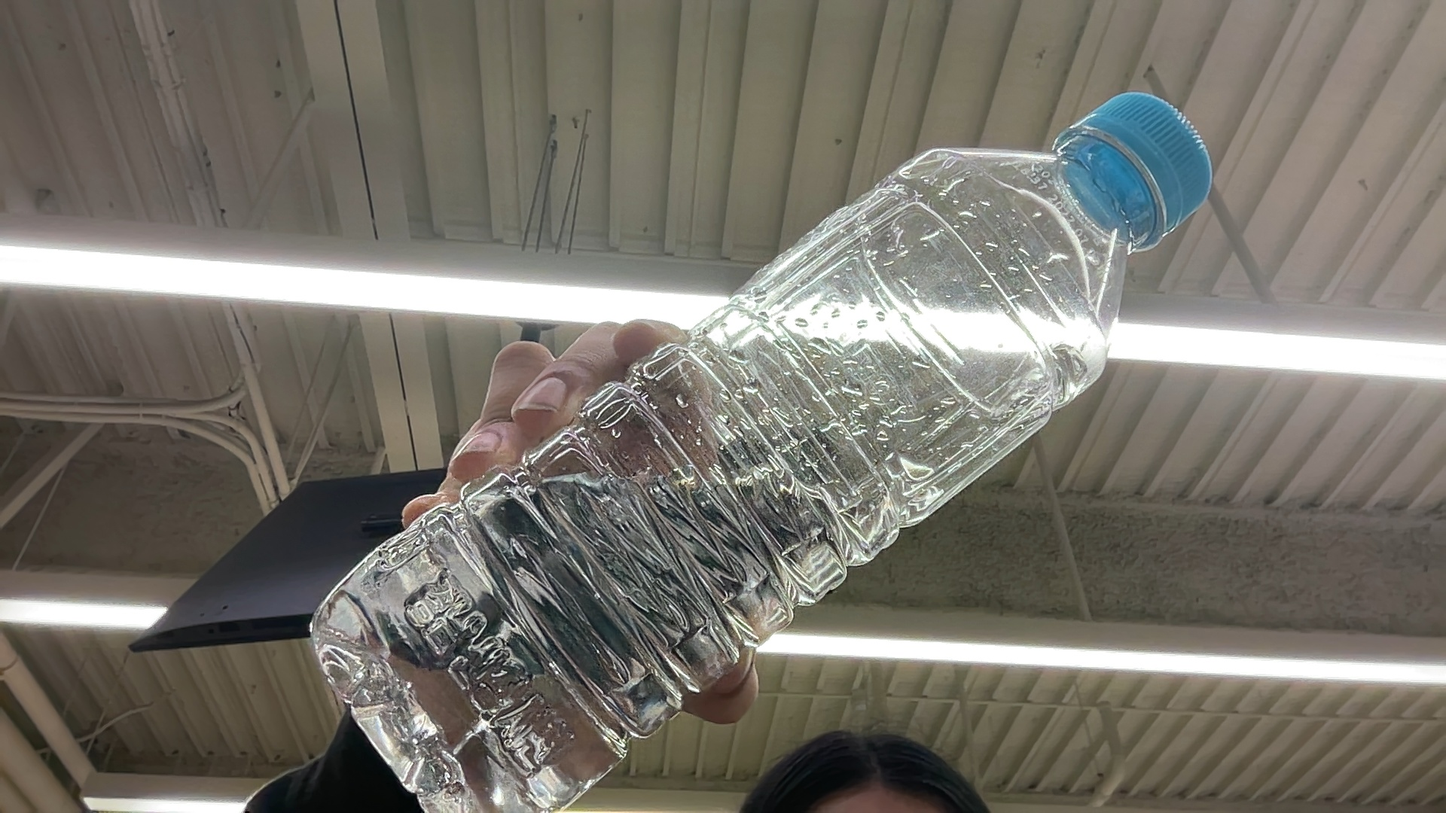Plastic: (1057, 90, 1211, 254)
